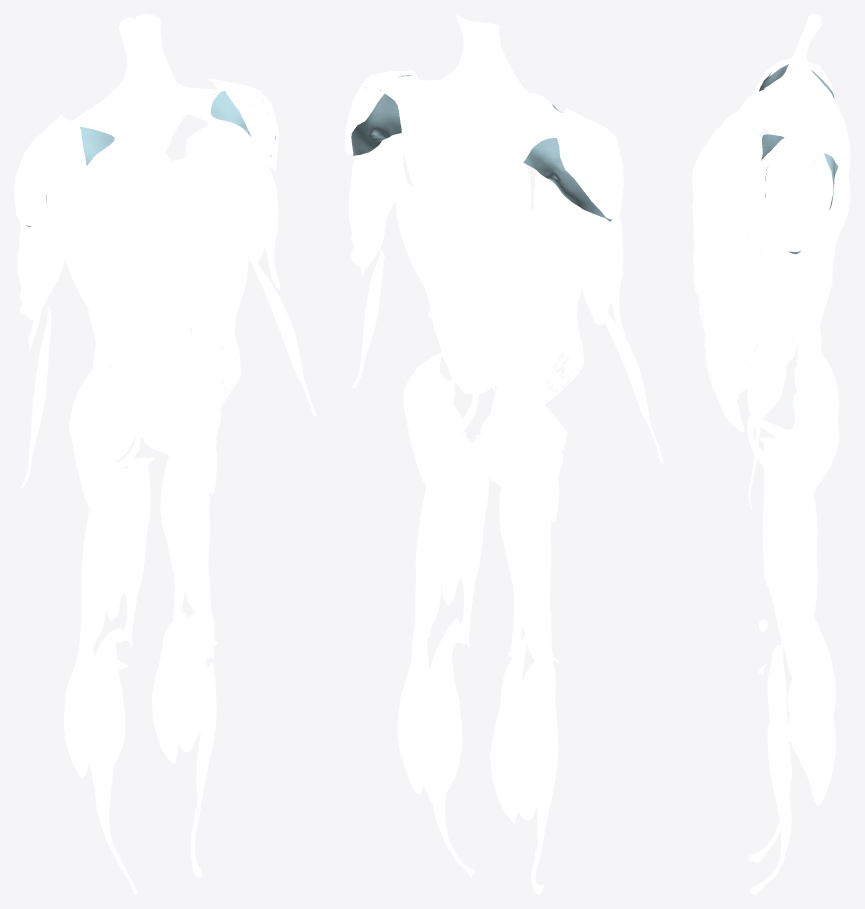
The model's file is anatomy-muscles.glb.
3 renders of one model, left to right at view 1: azimuth 30°, elevation 25°; view 2: azimuth 150°, elevation 25°; view 3: azimuth 270°, elevation 25°, orthographic. The views are drawn at different scales.
Visible parts, largest first — view 1: External abdominal oblique muscle.r, Sternocostal head of pectoralis major muscle.r, External abdominal oblique muscle.l, Adductor magnus.r, Adductor magnus.l, Sternocostal head of pectoralis major muscle.l, Deltoid region.r, Gluteus maximus muscle.r, Rectus abdominis muscle.l, Lateral head of gastrocnemius.l, Medial head of gastrocnemius.l, Rectus abdominis muscle.r (+29 smaller); view 2: Latissimus dorsi muscle.r, Gluteus maximus muscle.r, Latissimus dorsi muscle.l, Descending part of trapezius muscle.l, Gluteus maximus muscle.l, Long head of biceps femoris.r, Descending part of trapezius muscle.r, Medial head of gastrocnemius.l, Adductor magnus.l, Deltoid region.r, Lateral head of gastrocnemius.r, Long head of biceps femoris.l (+22 smaller); view 3: External abdominal oblique muscle.l, Deltoid region.l, Long head of biceps femoris.l, Gluteus maximus muscle.l, Sternocostal head of pectoralis major muscle.l, Lateral head of gastrocnemius.l, Adductor magnus.l, Ascending part of trapezius muscle.l, Latissimus dorsi muscle.l, Tibialis anterior muscle.l, Lateral head of triceps brachii.l, Sternocostal head of pectoralis major muscle.r (+23 smaller).
Boxes of the visible parts, x1,y1,x2,y2 form: External abdominal oblique muscle.r: (83, 225, 191, 442); Sternocostal head of pectoralis major muscle.r: (78, 148, 188, 267); External abdominal oblique muscle.l: (180, 233, 249, 440); Adductor magnus.r: (93, 457, 154, 647); Adductor magnus.l: (160, 449, 211, 638); Sternocostal head of pectoralis major muscle.l: (186, 140, 255, 248); Deltoid region.r: (14, 113, 87, 228); Gluteus maximus muscle.r: (69, 360, 135, 522); Rectus abdominis muscle.l: (178, 239, 234, 444); Lateral head of gastrocnemius.l: (176, 612, 208, 752); Medial head of gastrocnemius.l: (152, 612, 186, 764); Rectus abdominis muscle.r: (145, 245, 189, 447); Latissimus dorsi muscle.r: (470, 195, 570, 396); Gluteus maximus muscle.r: (474, 370, 567, 522); Latissimus dorsi muscle.l: (388, 137, 472, 394); Descending part of trapezius muscle.l: (400, 103, 471, 283); Gluteus maximus muscle.l: (403, 353, 474, 484); Long head of biceps femoris.r: (513, 494, 555, 714); Descending part of trapezius muscle.r: (463, 128, 546, 283); Medial head of gastrocnemius.l: (420, 618, 462, 804); Adductor magnus.l: (442, 442, 488, 647); Deltoid region.r: (547, 107, 623, 219); Lateral head of gastrocnemius.r: (511, 661, 550, 820); Long head of biceps femoris.l: (411, 474, 452, 660); External abdominal oblique muscle.l: (693, 220, 797, 427); Deltoid region.l: (750, 135, 833, 251); Long head of biceps femoris.l: (783, 487, 817, 712); Gluteus maximus muscle.l: (779, 372, 839, 533); Sternocostal head of pectoralis major muscle.l: (692, 131, 752, 241); Lateral head of gastrocnemius.l: (804, 661, 835, 805); Adductor magnus.l: (760, 449, 792, 652); Ascending part of trapezius muscle.l: (770, 23, 823, 137); Latissimus dorsi muscle.l: (786, 198, 844, 383); Tibialis anterior muscle.l: (748, 701, 791, 894); Lateral head of triceps brachii.l: (794, 235, 822, 347); Sternocostal head of pectoralis major muscle.r: (692, 102, 775, 193).
Size of the model in its own units: 0.5622 by 1.53 by 0.2564.
